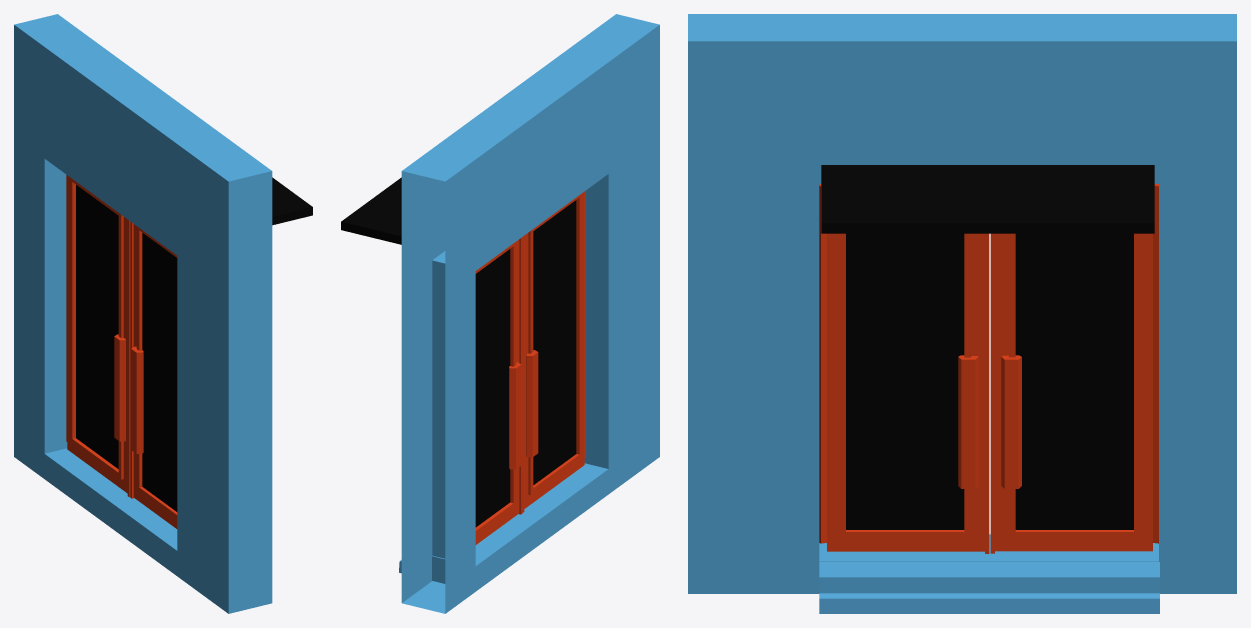
File: WallDoor.fbx
3 renders of one model, left to right at view 1: azimuth 30°, elevation 25°; view 2: azimuth 150°, elevation 25°; view 3: azimuth 270°, elevation 25°, orthographic. The views are drawn at different scales.
Visible parts, largest first — view 1: DoorWall, Door; view 2: DoorWall, Door; view 3: DoorWall, Door.
Part boxes in pixels (bbox=[...]): DoorWall: bbox=[14, 14, 312, 613]; Door: bbox=[66, 175, 177, 528]; DoorWall: bbox=[341, 14, 659, 613]; Door: bbox=[475, 190, 585, 544]; DoorWall: bbox=[688, 14, 1236, 613]; Door: bbox=[819, 184, 1158, 553].
Bounding box in the file's own units: 119 × 359 × 323.
